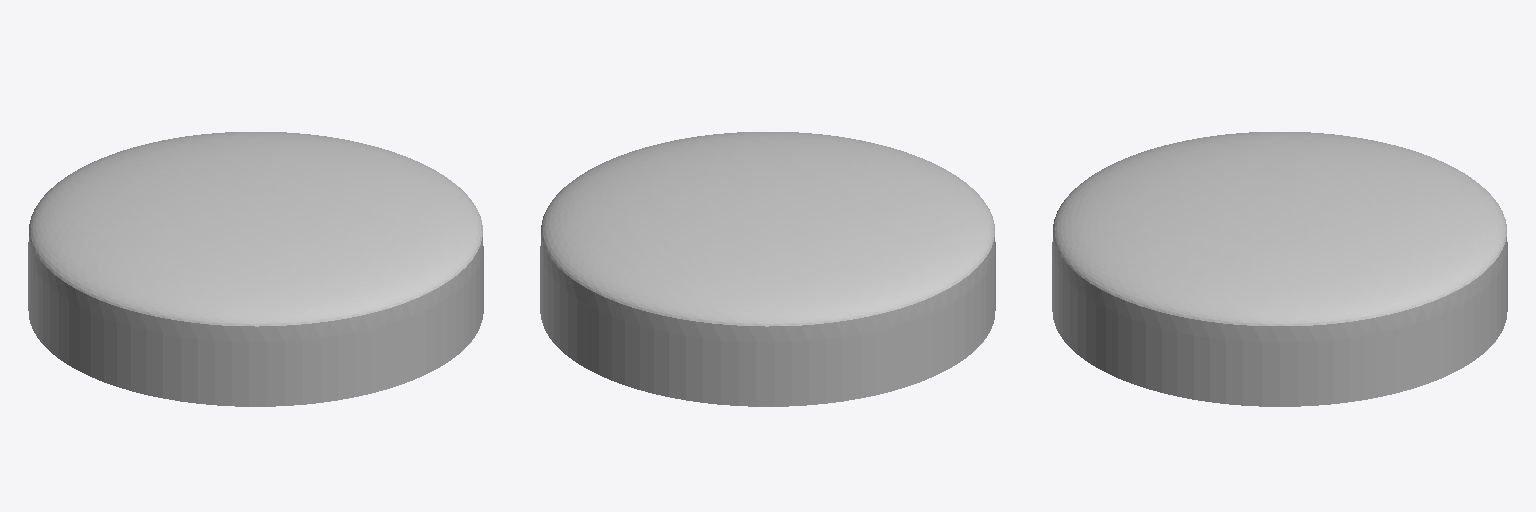
The model's file is meepletoken.obj.
3 renders of one model, left to right at view 1: azimuth 30°, elevation 25°; view 2: azimuth 150°, elevation 25°; view 3: azimuth 270°, elevation 25°, orthographic.
Parts seen in each view (by area): view 1: TokenBottom_Icosphere.001, TokenTop_Icosphere; view 2: TokenBottom_Icosphere.001, TokenTop_Icosphere; view 3: TokenBottom_Icosphere.001, TokenTop_Icosphere.
Boxes of the visible parts, box(x1,y1,x2,y2) form: TokenBottom_Icosphere.001: box(29, 132, 482, 326); TokenTop_Icosphere: box(28, 237, 483, 406); TokenBottom_Icosphere.001: box(541, 132, 994, 326); TokenTop_Icosphere: box(540, 237, 995, 406); TokenBottom_Icosphere.001: box(1053, 132, 1506, 325); TokenTop_Icosphere: box(1052, 237, 1507, 406).
Size of the model in its own units: 2 by 0.5307 by 2.